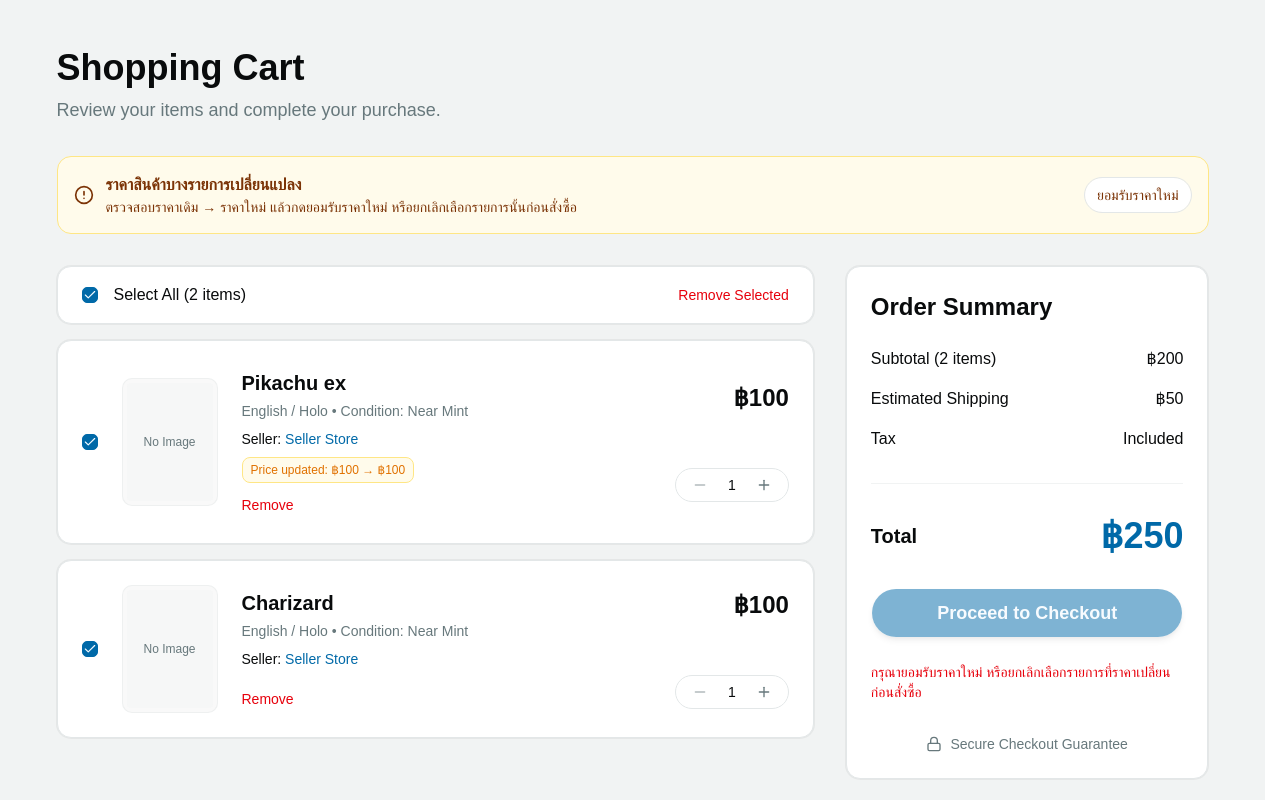
Test: CartPage item details › allows other items to checkout after deselecting a blocked item: {"priceChanged":true,"purchasable":true}
The width and height of the screenshot is (1280, 800).
Expected: the heading "Pikachu ex" is shown, x1=242 y1=372 x2=346 y2=394
Expected: the button "Proceed to Checkout" is disabled, x1=871 y1=588 x2=1184 y2=638
Step 1. Click the checkbox named "เลือก Pikachu ex" → (90, 442), box x1=82 y1=434 x2=98 y2=450
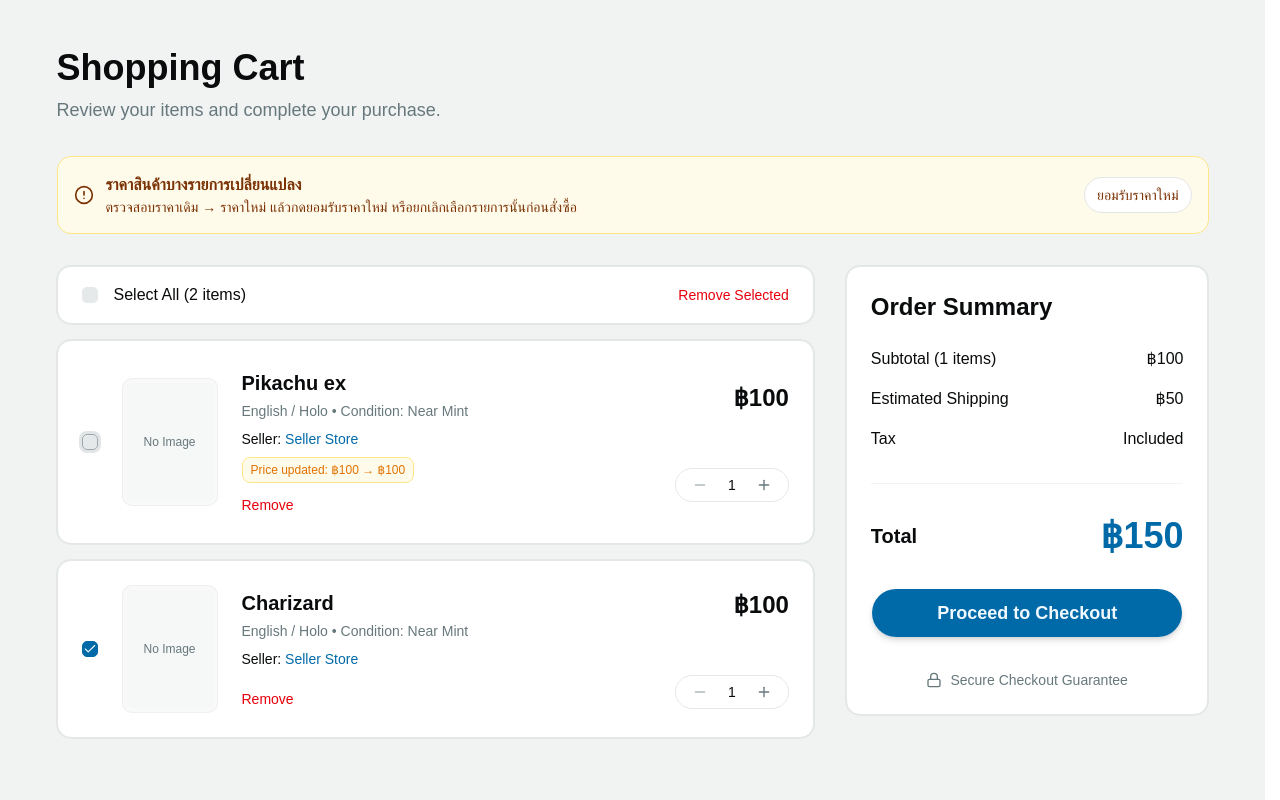
Expected: the button "Proceed to Checkout" is enabled, x1=871 y1=588 x2=1184 y2=638
